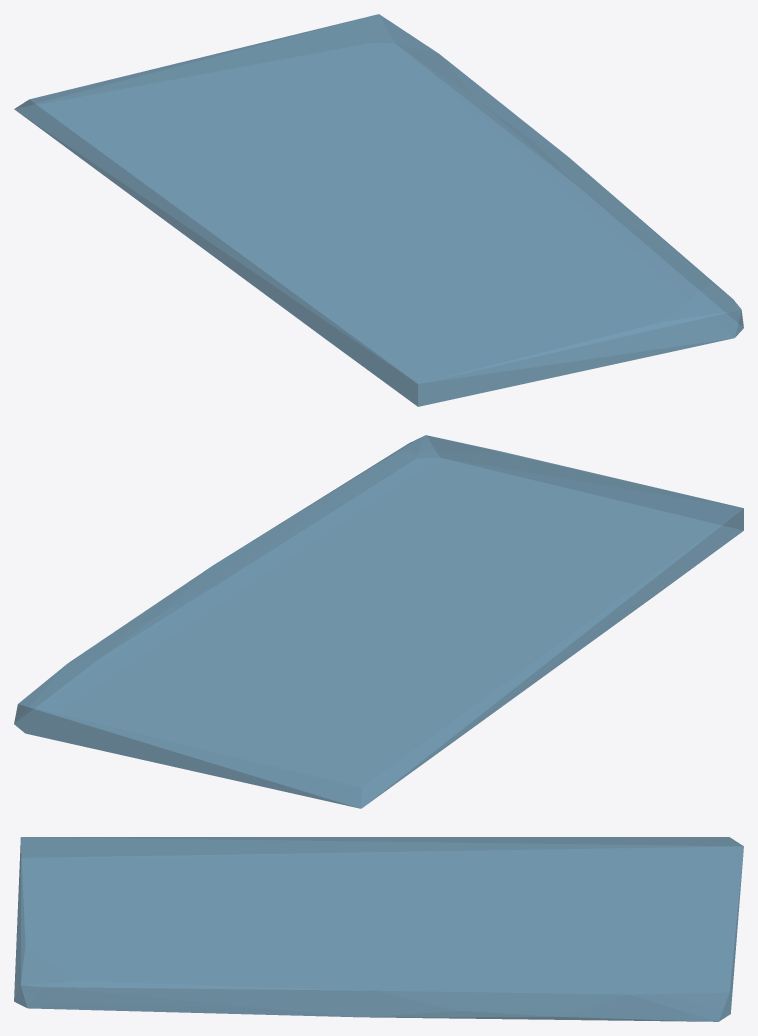
3 views of the same model, one above another, from view 1: azimuth 30°, elevation 25°; view 2: azimuth 150°, elevation 25°; view 3: azimuth 270°, elevation 25° (orthographic). The views are drawn at different scales.
Visible parts, largest first — view 1: Shape_IndexedFaceSet.029_Shape_IndexedFaceSet.1726; view 2: Shape_IndexedFaceSet.029_Shape_IndexedFaceSet.1726; view 3: Shape_IndexedFaceSet.029_Shape_IndexedFaceSet.1726.
Part boxes in pixels (x1=…): Shape_IndexedFaceSet.029_Shape_IndexedFaceSet.1726: x1=14, y1=14, x2=743, y2=406; Shape_IndexedFaceSet.029_Shape_IndexedFaceSet.1726: x1=14, y1=435, x2=743, y2=808; Shape_IndexedFaceSet.029_Shape_IndexedFaceSet.1726: x1=14, y1=837, x2=743, y2=1021.
Size of the model in its own units: 0.2863 by 0.0209 by 0.541.
